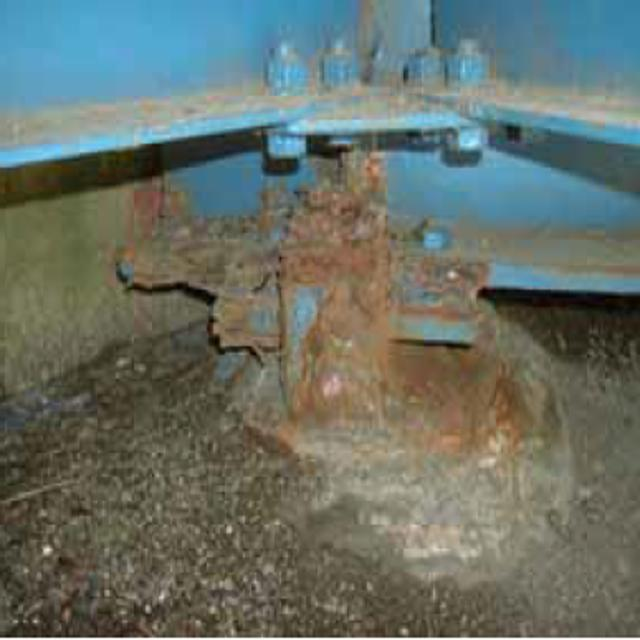corrosion: (114, 192, 537, 474)
